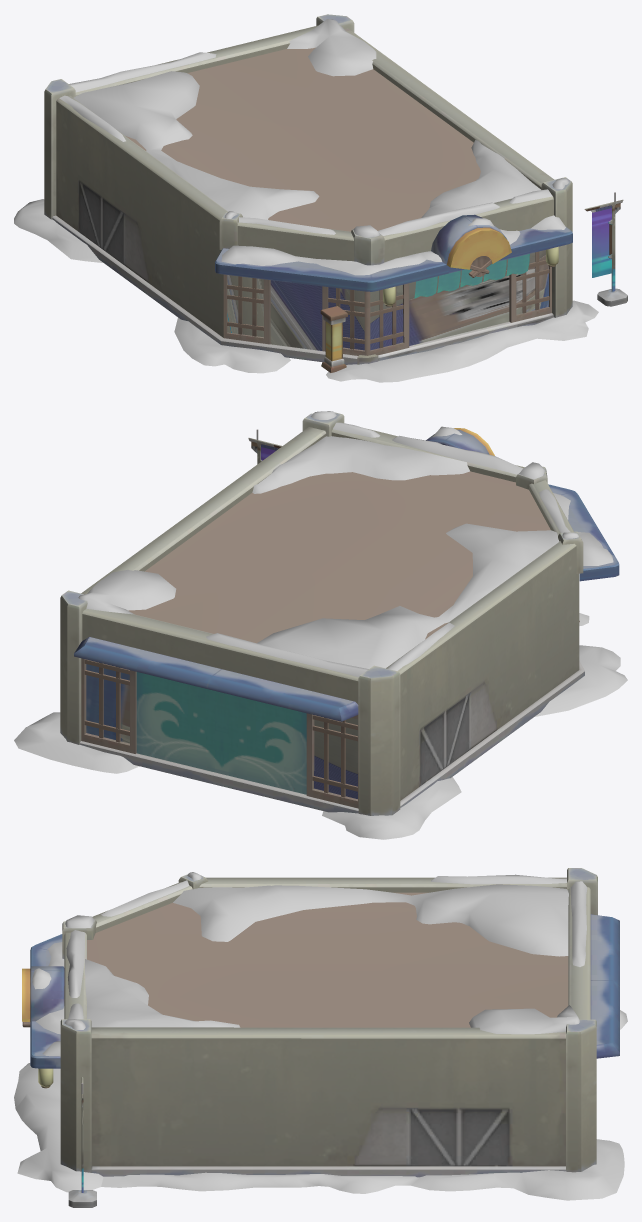
File: pref_sm_city_shop04_snow_lv3.fbx
3 renders of one model, top to bottom at view 1: azimuth 30°, elevation 25°; view 2: azimuth 150°, elevation 25°; view 3: azimuth 270°, elevation 25°, orthographic. The views are drawn at different scales.
Visible parts, largest first — view 1: sm_city_shop04_snow_lv3, sm_city_shop04b_snow_lv3; view 2: sm_city_shop04_snow_lv3, sm_city_shop04b_snow_lv3; view 3: sm_city_shop04_snow_lv3, sm_city_shop04b_snow_lv3.
Boxes of the visible parts, <box> form: sm_city_shop04_snow_lv3: <box>44,14,627,372</box>; sm_city_shop04b_snow_lv3: <box>14,19,598,382</box>; sm_city_shop04_snow_lv3: <box>60,412,619,815</box>; sm_city_shop04b_snow_lv3: <box>14,411,627,839</box>; sm_city_shop04_snow_lv3: <box>22,868,619,1207</box>; sm_city_shop04b_snow_lv3: <box>14,872,627,1200</box>.
Size of the model in its own units: 18.46 by 6.3 by 22.88.
